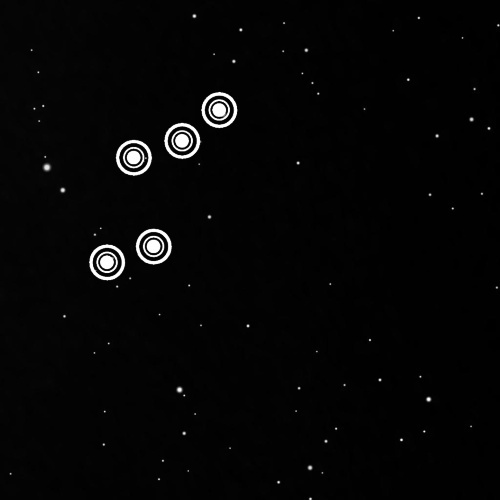lyra: (79, 73, 245, 304)
